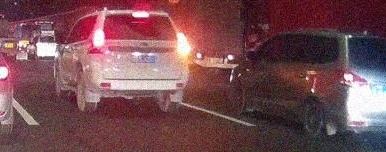L_light: (86, 31, 105, 54)
R_light: (174, 33, 189, 57)
T_light: (130, 12, 150, 20)
night-right: (83, 10, 190, 113)
